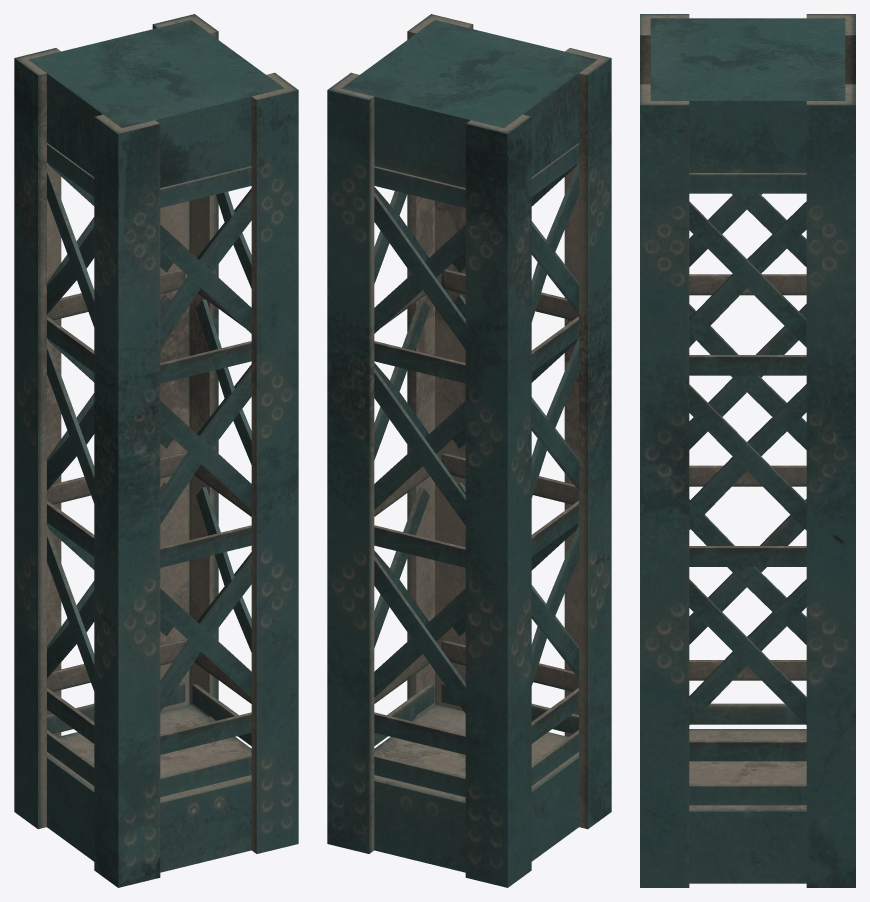
The model's file is SM_PillarFrame4m.FBX.
3 views of the same model, side by side, from view 1: azimuth 30°, elevation 25°; view 2: azimuth 150°, elevation 25°; view 3: azimuth 270°, elevation 25° (orthographic). The views are drawn at different scales.
Parts seen in each view (by area): view 1: SM_PillarFrame4m; view 2: SM_PillarFrame4m; view 3: SM_PillarFrame4m.
Part boxes in pixels (x1,y1,x2,y2): SM_PillarFrame4m: (14, 14, 298, 887); SM_PillarFrame4m: (327, 14, 611, 887); SM_PillarFrame4m: (640, 14, 855, 887).
Size of the model in its own units: 100 by 100 by 400.
